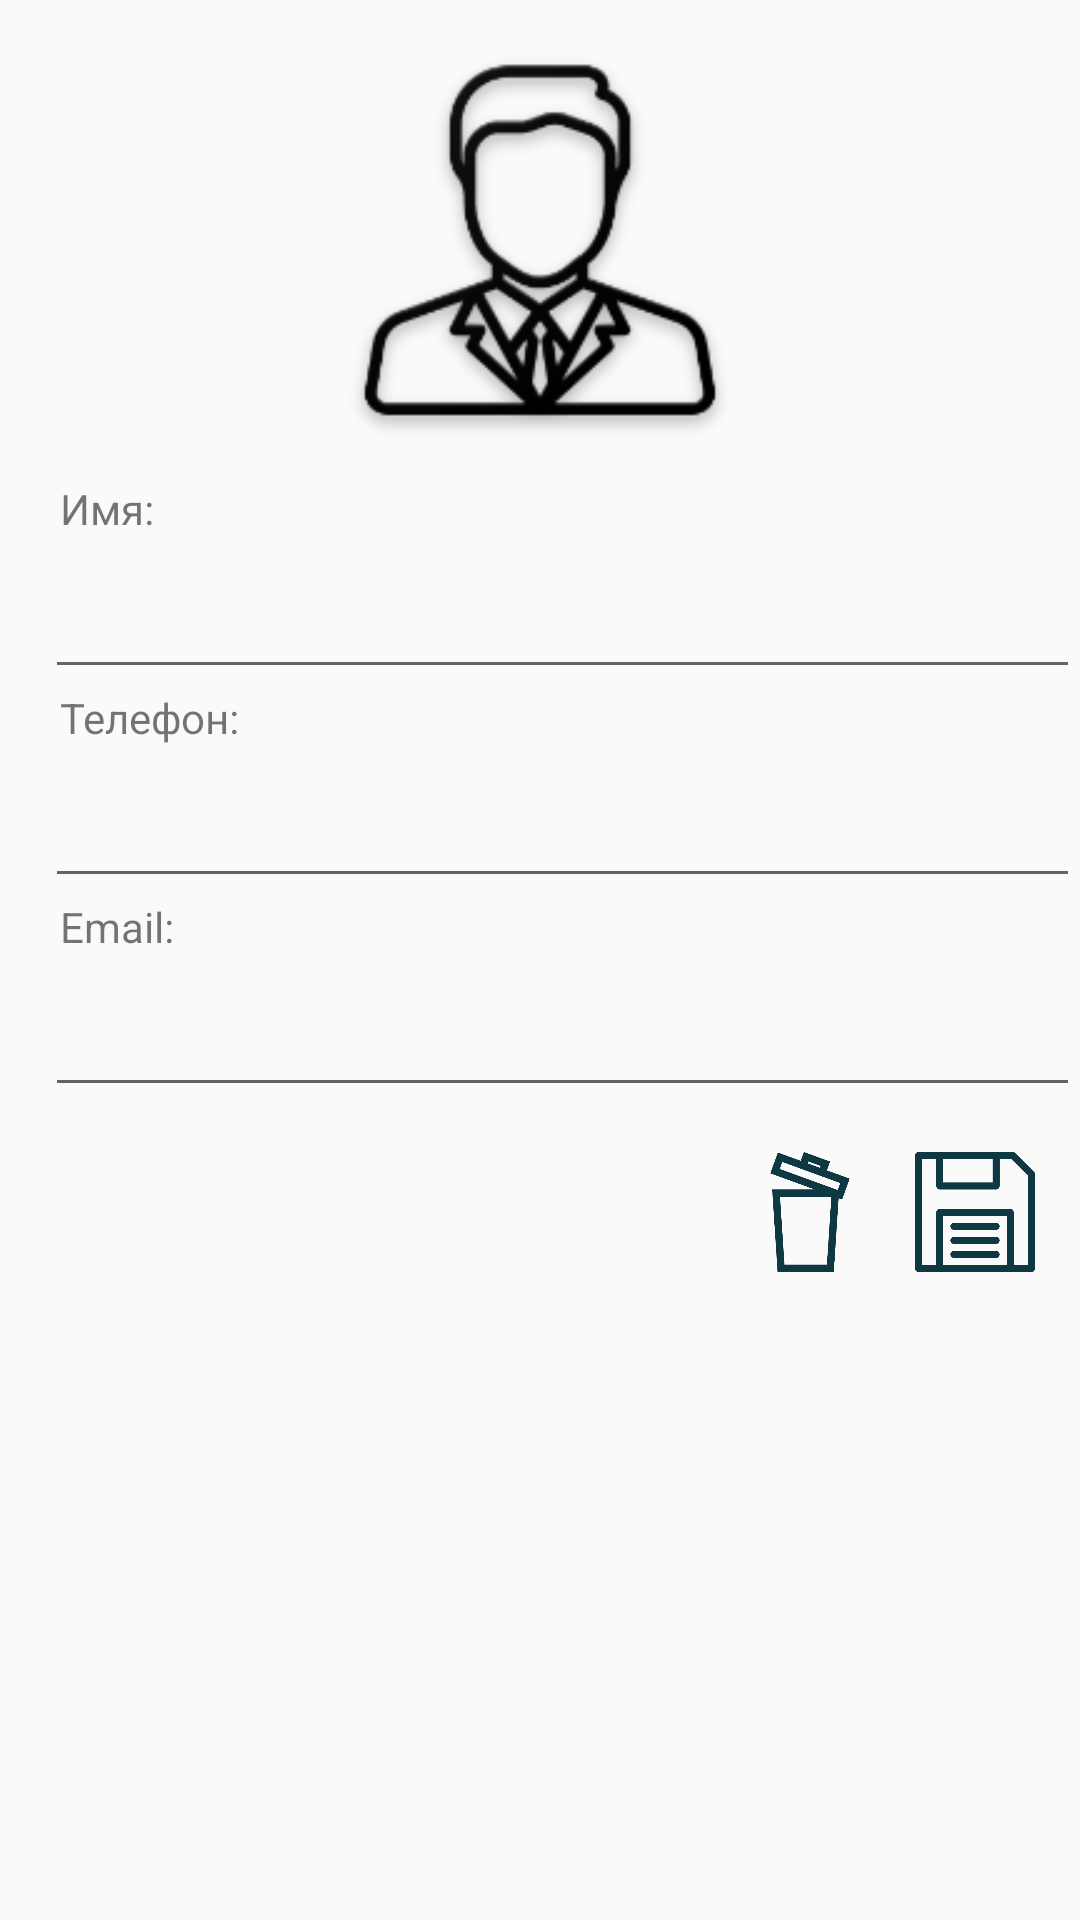

Point at icon controls on the screen. Image size 1080*1920, points as point (x, y).
delete: point (810, 1212)
save: point (975, 1212)
